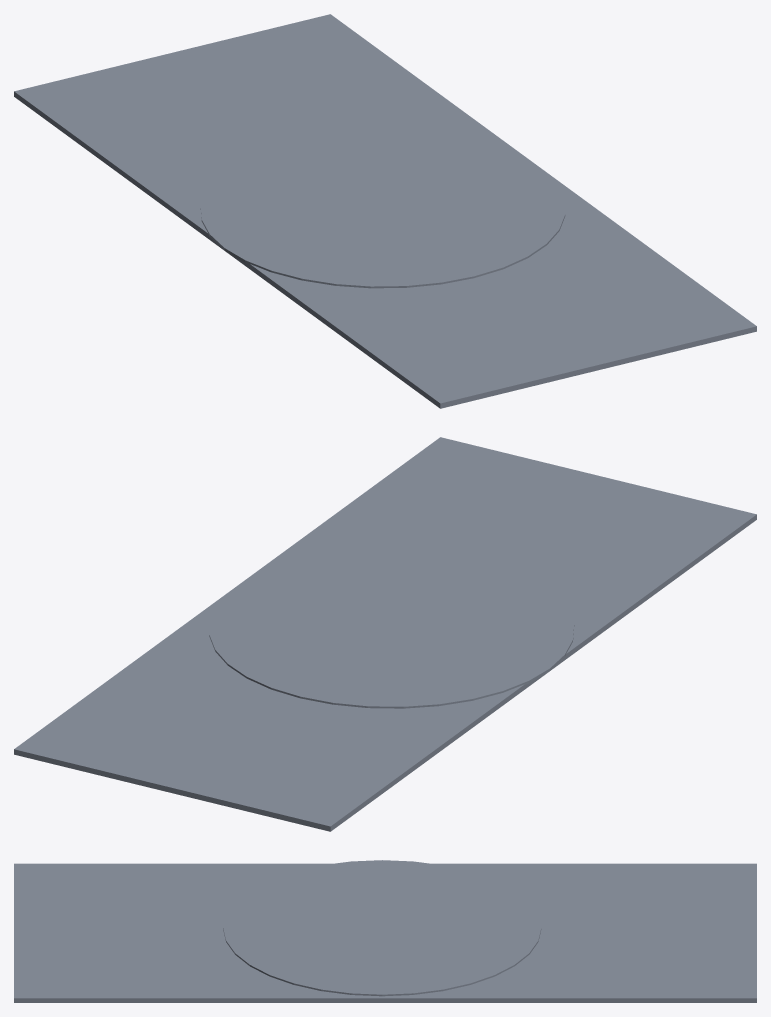
The picture shows the model from 3 angles, top to bottom: view 1: azimuth 30°, elevation 25°; view 2: azimuth 150°, elevation 25°; view 3: azimuth 270°, elevation 25°; orthographic projection. The views are drawn at different scales.
Parts seen in each view (by area): view 1: tmp_export_Cylinder.011; view 2: tmp_export_Cylinder.011; view 3: tmp_export_Cylinder.011.
Boxes of the visible parts, x1,y1,x2,y2 form: tmp_export_Cylinder.011: [14, 14, 756, 408]; tmp_export_Cylinder.011: [14, 437, 756, 831]; tmp_export_Cylinder.011: [14, 860, 756, 1002].
Bounding box in the file's own units: 4.06 × 9.33 × 0.0862.
